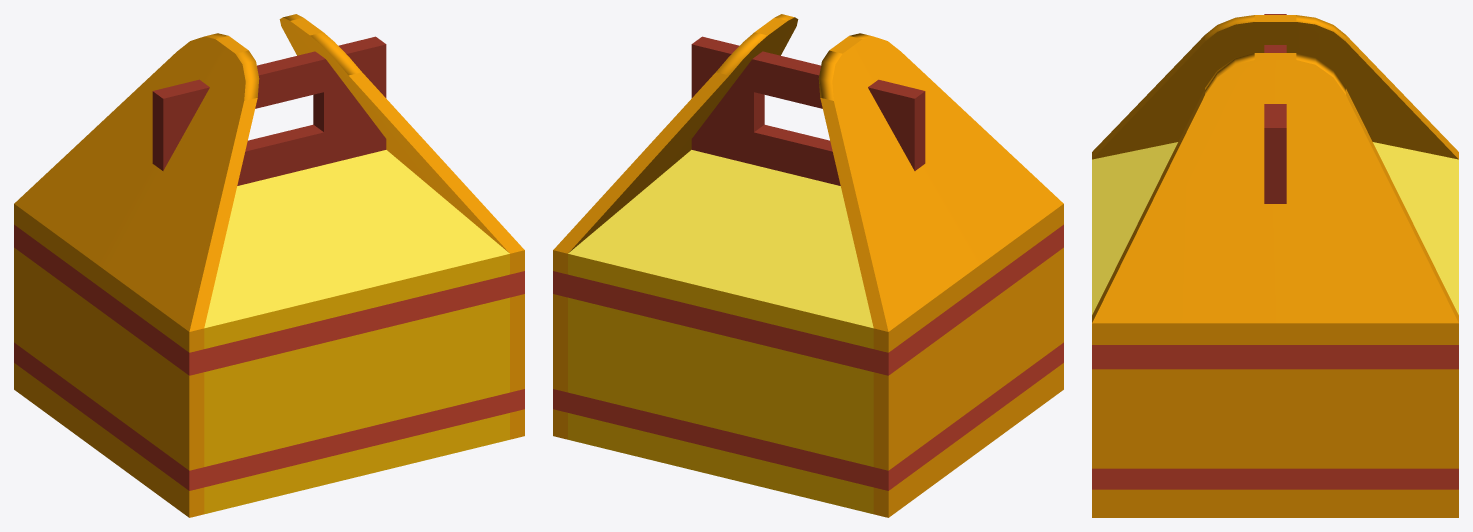
Rendered from Goods_05.fbx.
3 views of the same model, side by side, from view 1: azimuth 30°, elevation 25°; view 2: azimuth 150°, elevation 25°; view 3: azimuth 270°, elevation 25° (orthographic). The views are drawn at different scales.
Visible parts, largest first — view 1: 05_goods_item; view 2: 05_goods_item; view 3: 05_goods_item.
Boxes of the visible parts, <box> form: 05_goods_item: <box>14,14,524,517</box>; 05_goods_item: <box>553,14,1063,517</box>; 05_goods_item: <box>1092,14,1458,517</box>.
Size of the model in its own units: 43.79 by 47.06 by 39.64.
Materials: 1 (1 with a texture image).
